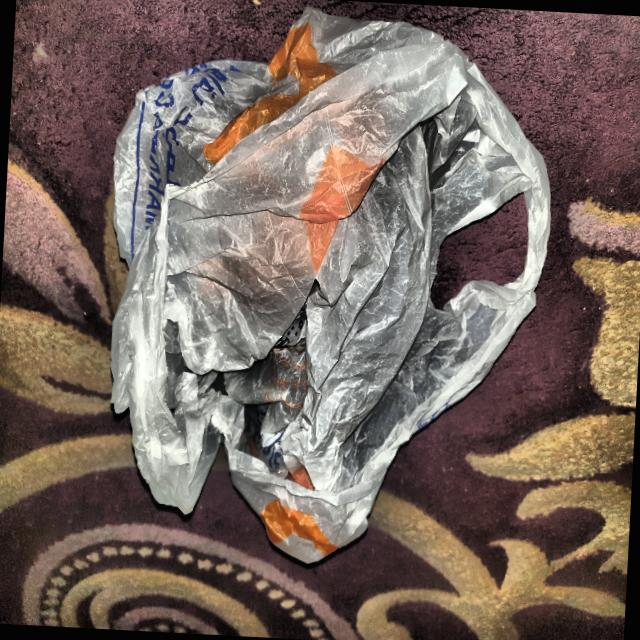plastic bag: (79, 0, 570, 599)
